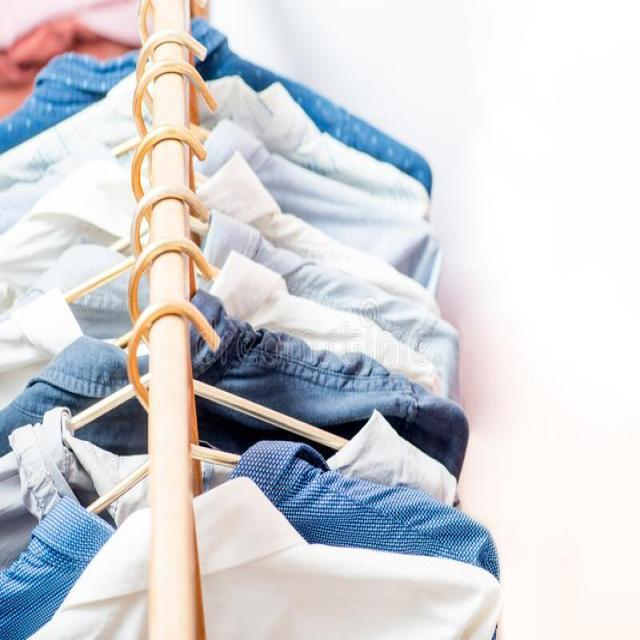clothes: (242, 100, 502, 640)
